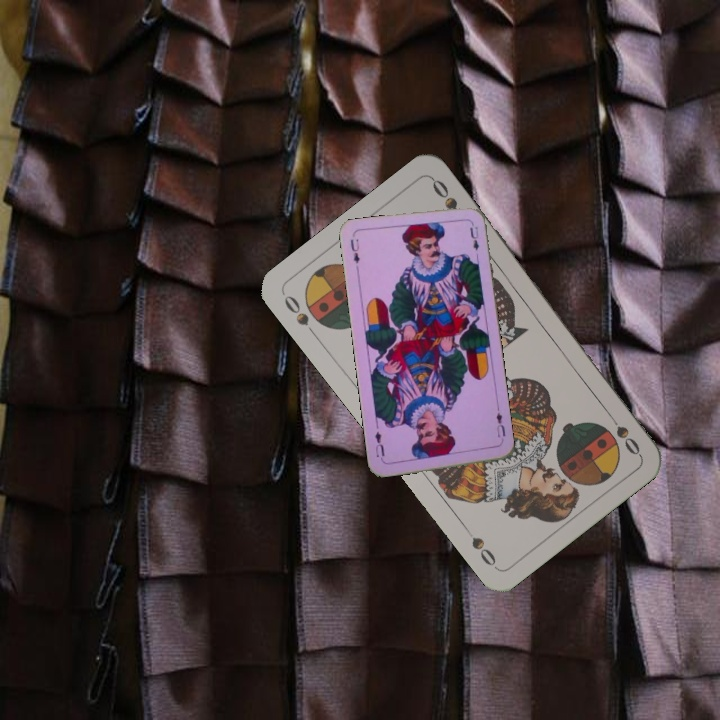EU: (492, 406, 508, 446), (346, 235, 362, 266)
SO: (602, 406, 643, 459), (280, 291, 320, 341)
